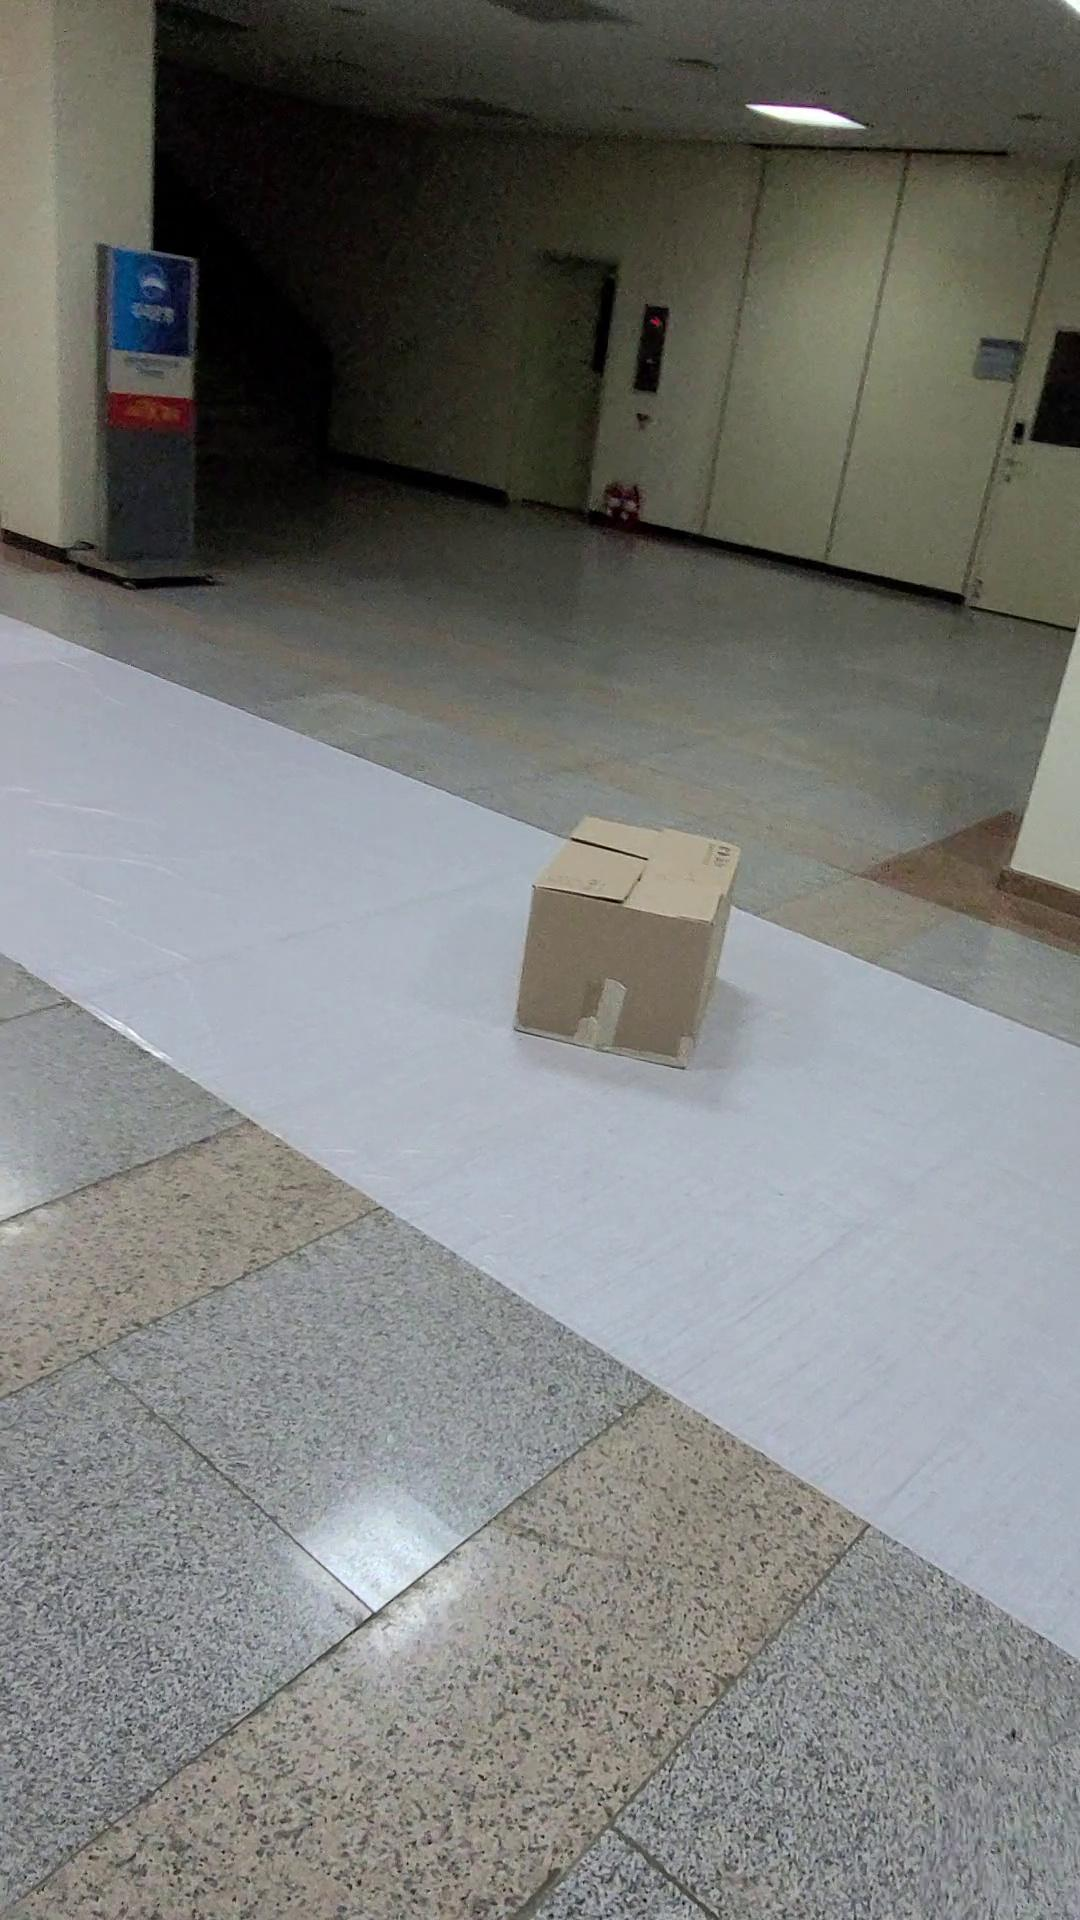Box: (463, 789, 777, 1138)
